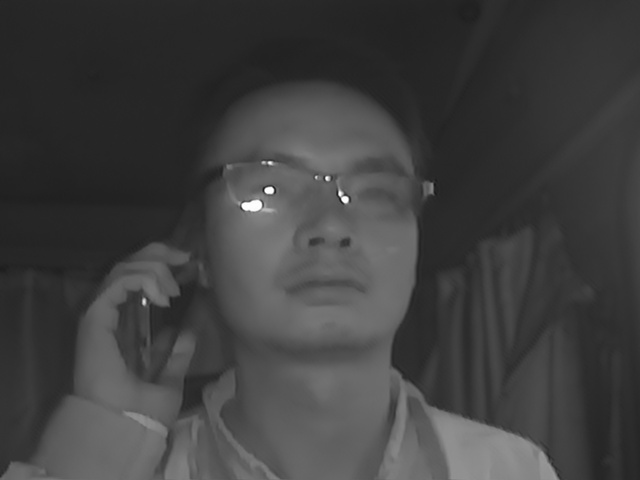hand: (69, 242, 200, 424)
